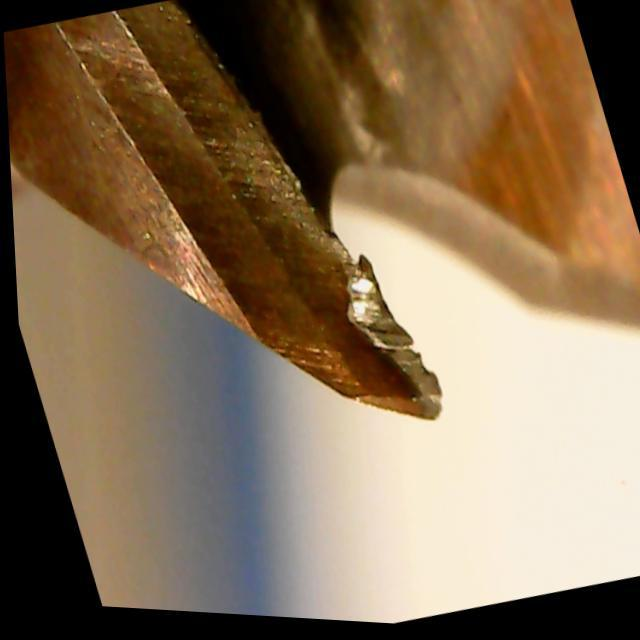Tool-wear-class-2: (219, 166, 466, 470)
